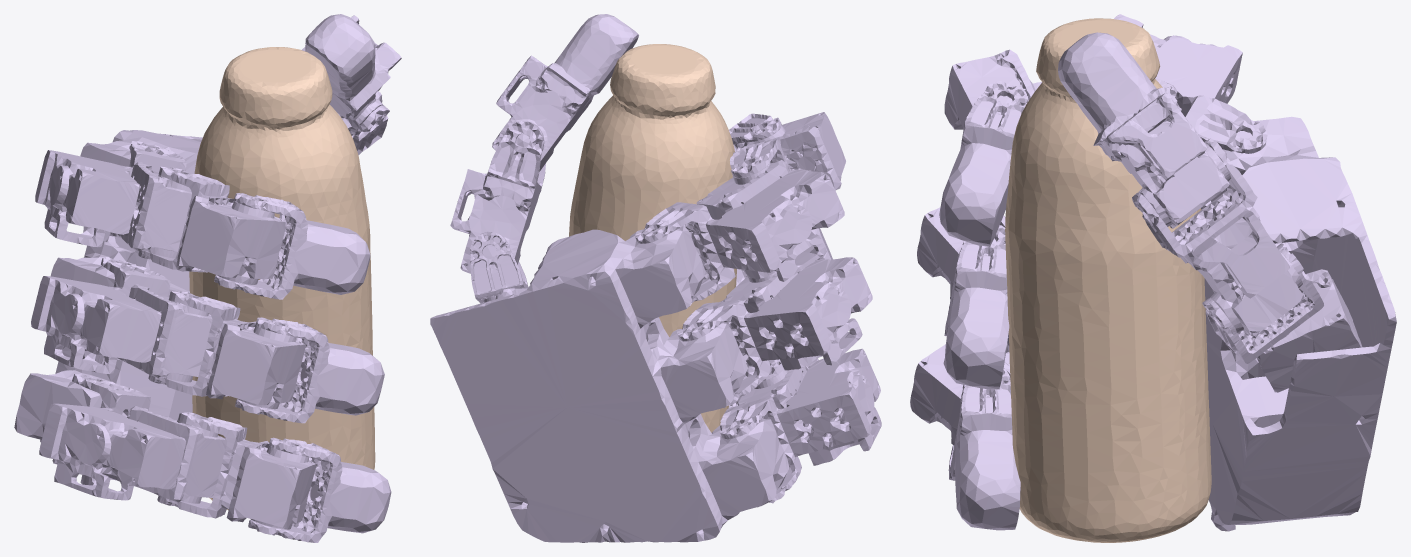
Rendered from 0129796443fe66-closed.glb.
The picture shows the model from 3 angles, left to right: view 1: azimuth 30°, elevation 25°; view 2: azimuth 150°, elevation 25°; view 3: azimuth 270°, elevation 25°; orthographic projection. The views are drawn at different scales.
Visible parts, largest first — view 1: LEAP_hand, world; view 2: LEAP_hand, world; view 3: LEAP_hand, world.
Boxes of the visible parts, left/top/right/bottom form: LEAP_hand: left=14, top=14, right=401, bottom=542; world: left=189, top=47, right=375, bottom=510; LEAP_hand: left=430, top=14, right=881, bottom=542; world: left=569, top=44, right=736, bottom=432; LEAP_hand: left=910, top=14, right=1396, bottom=531; world: left=1005, top=18, right=1211, bottom=542.
Bounding box in the file's own units: 0.1672 × 0.1993 × 0.1682.
